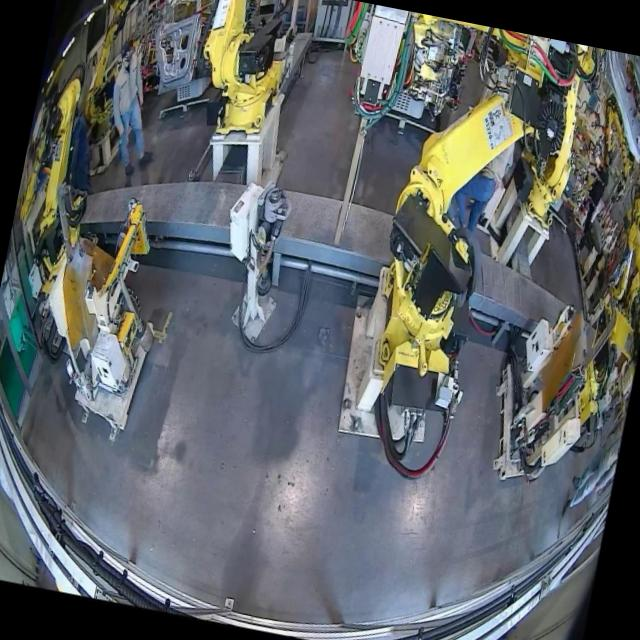Person: (97, 41, 165, 178), (447, 132, 518, 238), (578, 157, 612, 240)
